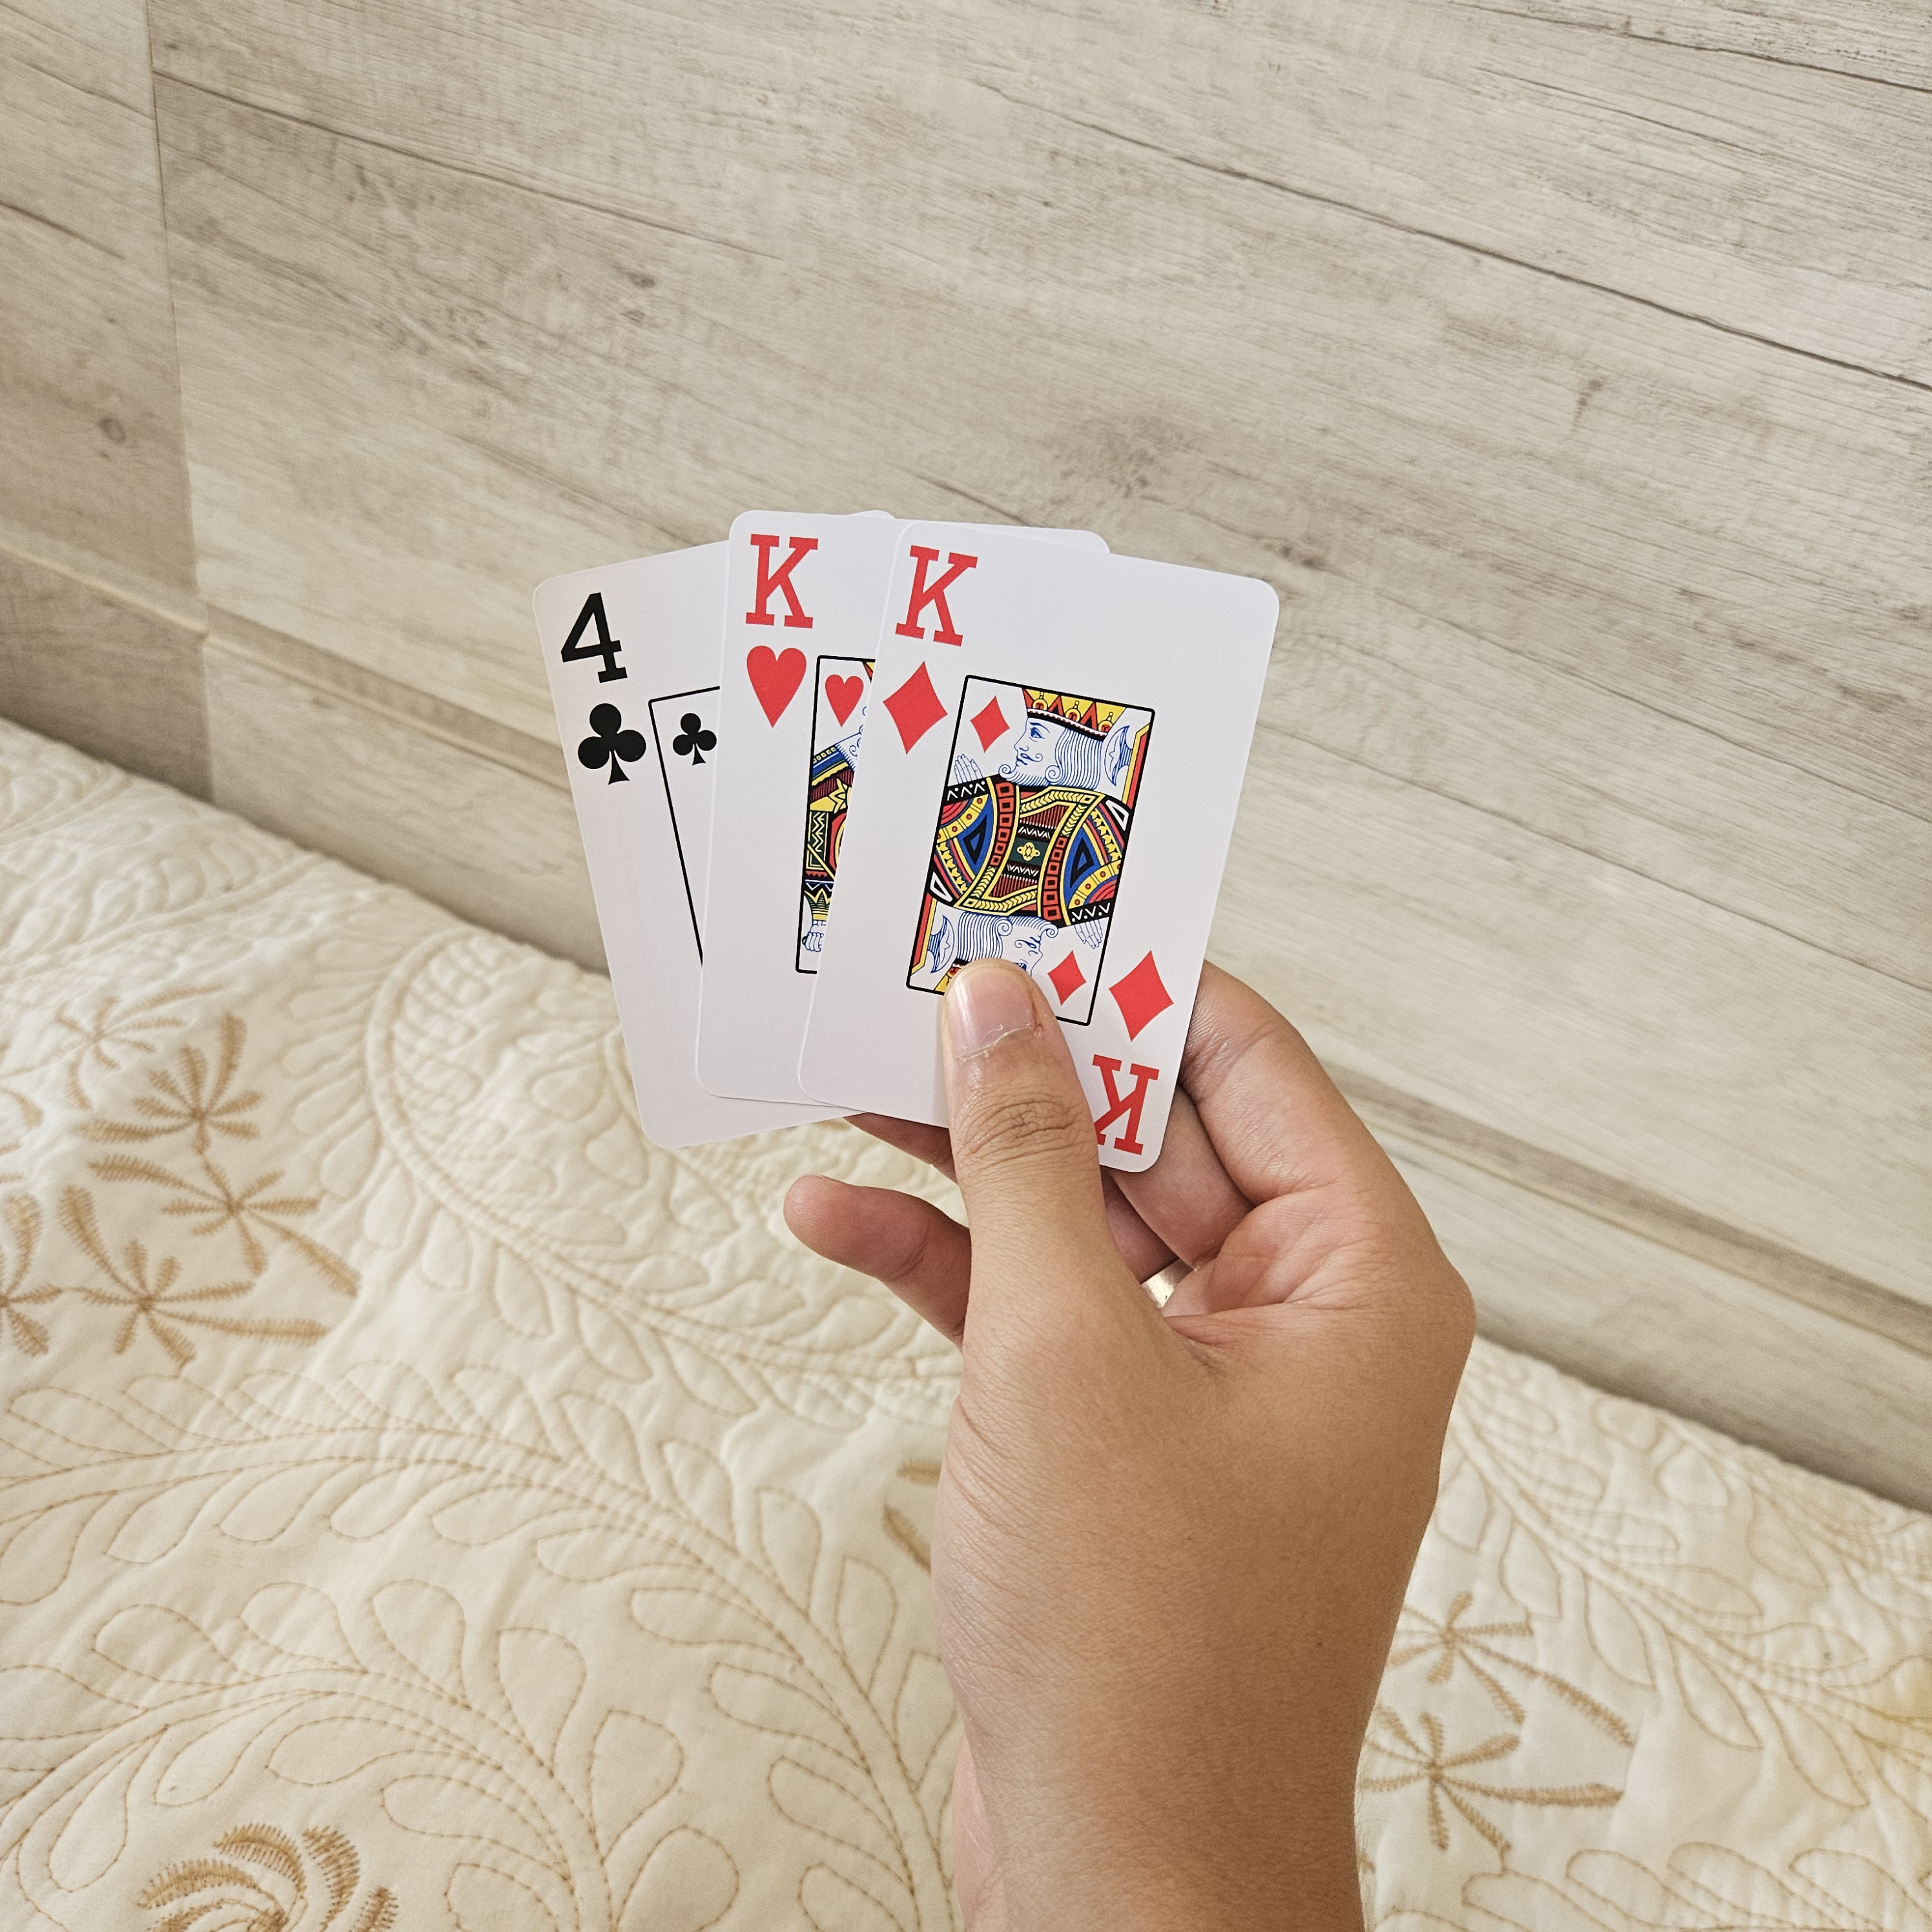4P: (543, 571, 662, 798)
KC: (729, 518, 830, 732)
KO: (876, 527, 984, 757), (1086, 947, 1180, 1161)
